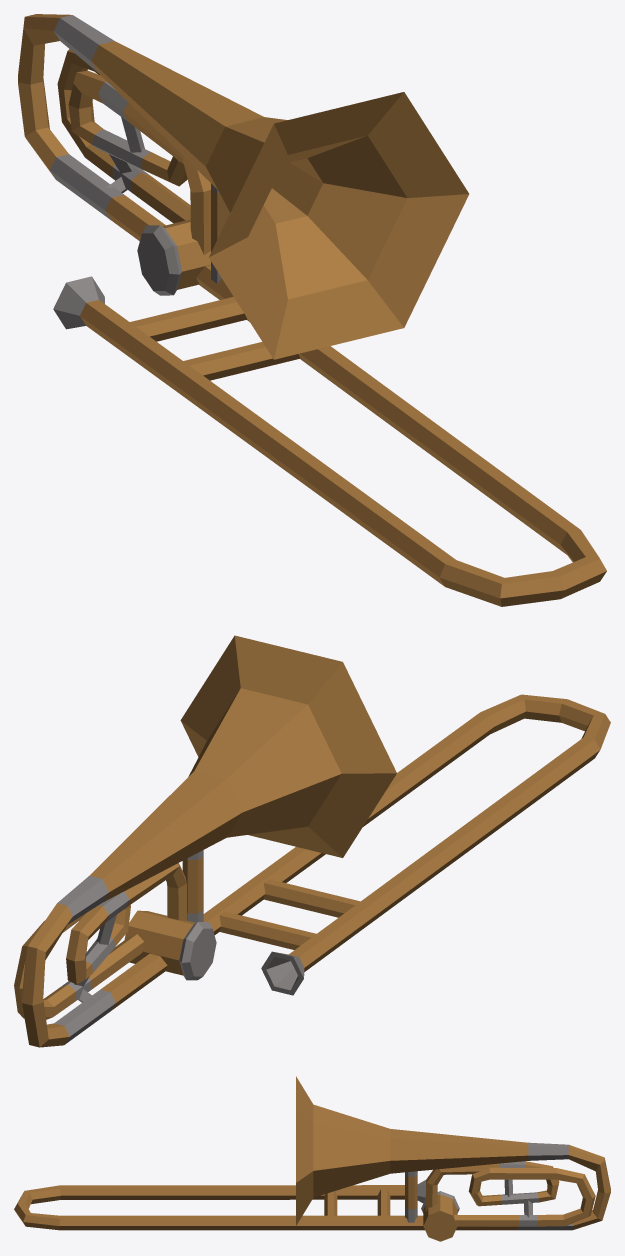
Rendered from music-trombone-tenor.glb.
3 views of the same model, one above another, from view 1: azimuth 30°, elevation 25°; view 2: azimuth 150°, elevation 25°; view 3: azimuth 270°, elevation 25° (orthographic). The views are drawn at different scales.
Parts seen in each view (by area): view 1: trombone-tenor; view 2: trombone-tenor; view 3: trombone-tenor.
Boxes of the visible parts, left/top/right/bottom form: trombone-tenor: left=18, top=14, right=606, bottom=606; trombone-tenor: left=14, top=635, right=610, bottom=1047; trombone-tenor: left=14, top=1076, right=610, bottom=1241.
Size of the model in its own units: 0.2461 by 0.2378 by 0.9009.
